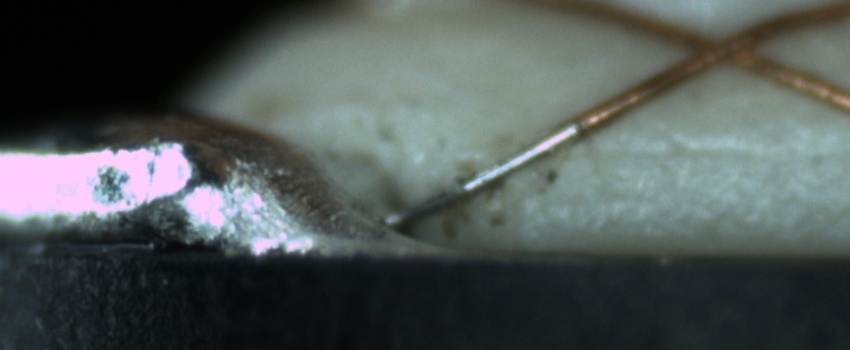CL: (665, 13, 766, 79)
DL: (574, 119, 849, 179)
TS: (390, 123, 584, 227)
